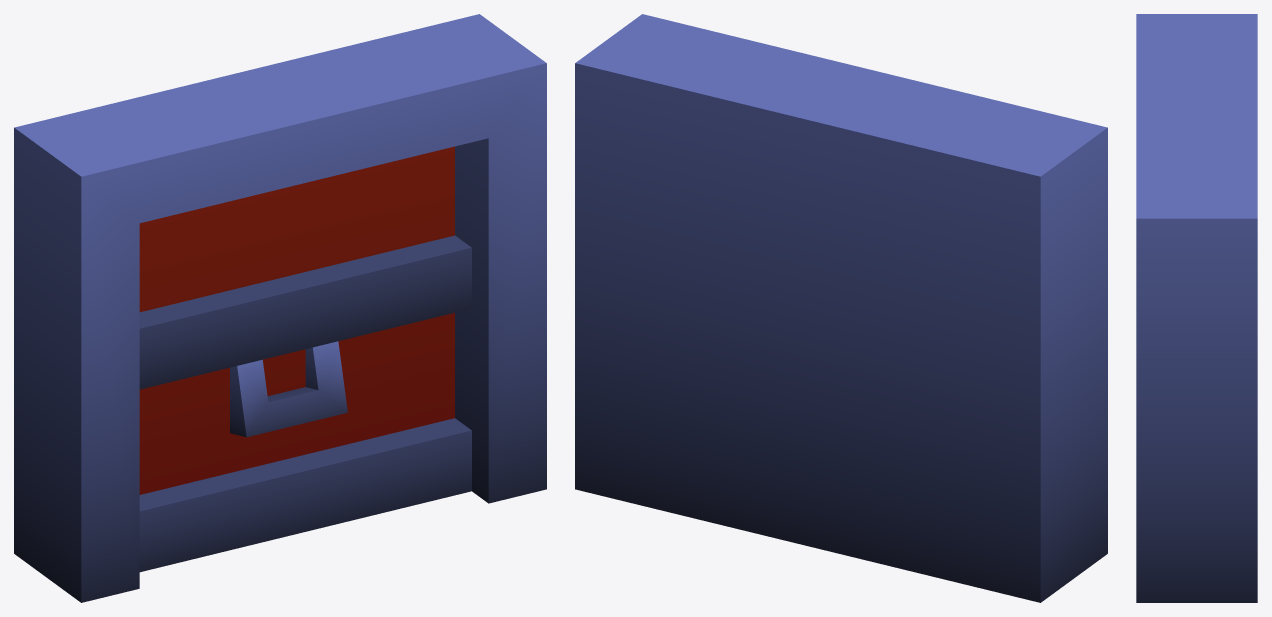
The model's file is door.fbx.
The picture shows the model from 3 angles, left to right: view 1: azimuth 30°, elevation 25°; view 2: azimuth 150°, elevation 25°; view 3: azimuth 270°, elevation 25°; orthographic projection. The views are drawn at different scales.
Parts seen in each view (by area): view 1: door; view 2: door; view 3: door.
Boxes of the visible parts, bbox=[...] form: door: bbox=[14, 14, 546, 602]; door: bbox=[575, 14, 1107, 602]; door: bbox=[1136, 14, 1257, 602].
Bounding box in the file's own units: 8 × 7 × 2.
